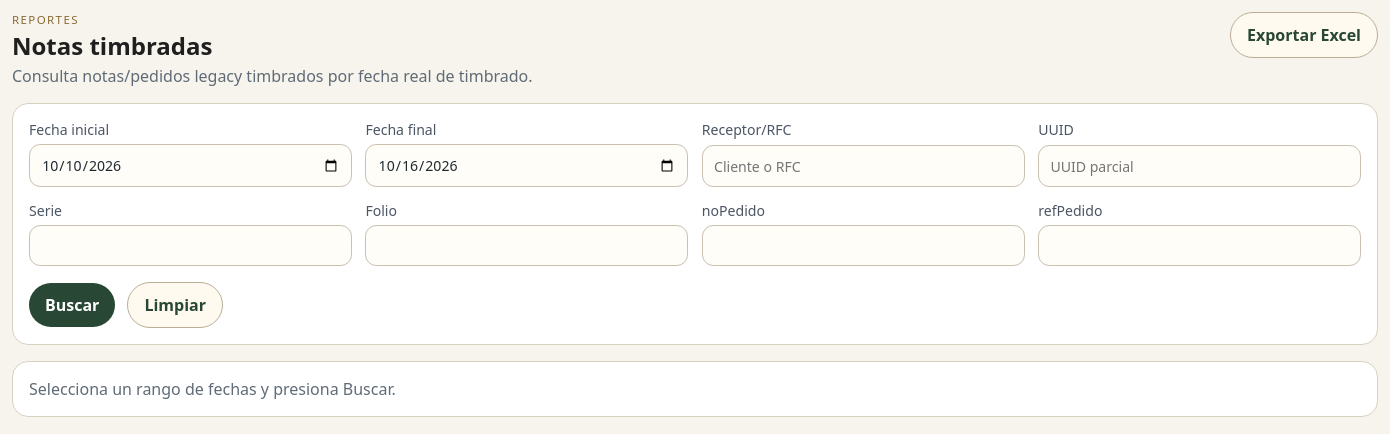
Scenario: StampedLegacyNotesReportPageComponent › shows empty state and backend errors
Click the button "Buscar" at (72, 305), box left=29, top=283, right=115, bottom=327
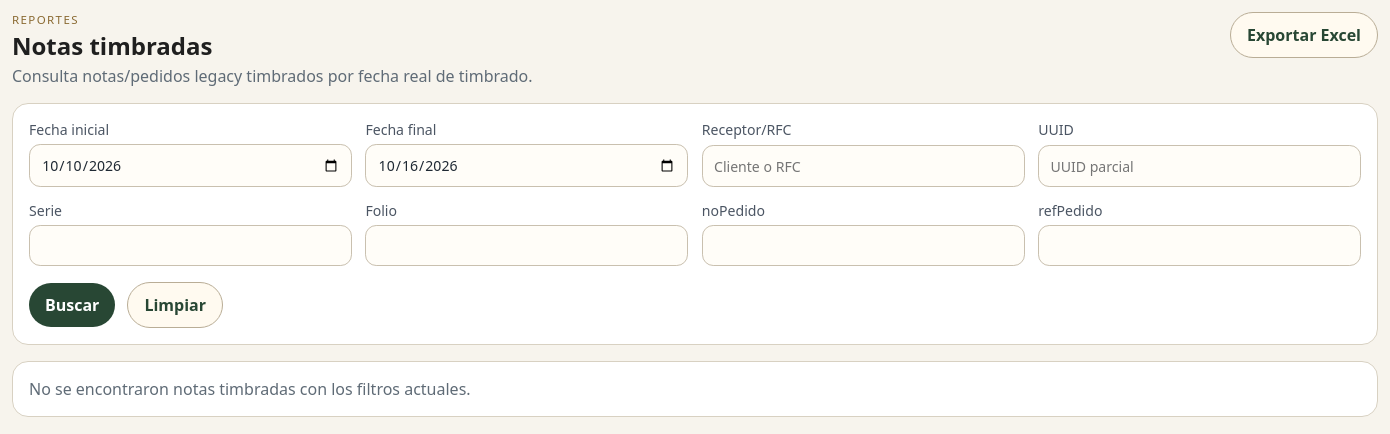
Now the text "No se encontraron notas timbradas" is shown, box left=29, top=378, right=471, bottom=400
Click the button "Buscar" at (72, 305), box left=29, top=283, right=115, bottom=327
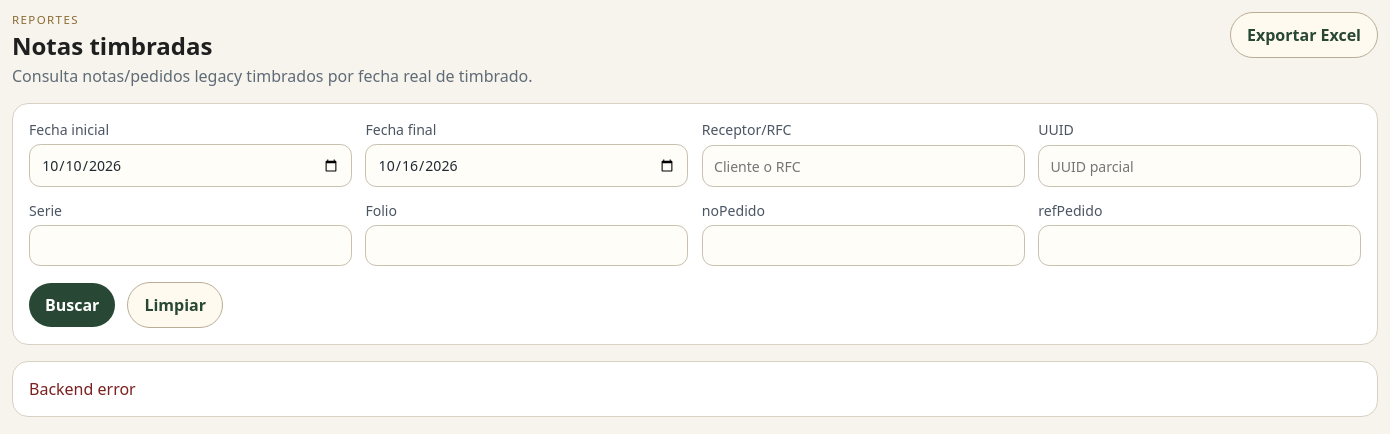
Now the text "Backend error" is shown, box left=29, top=378, right=136, bottom=400
